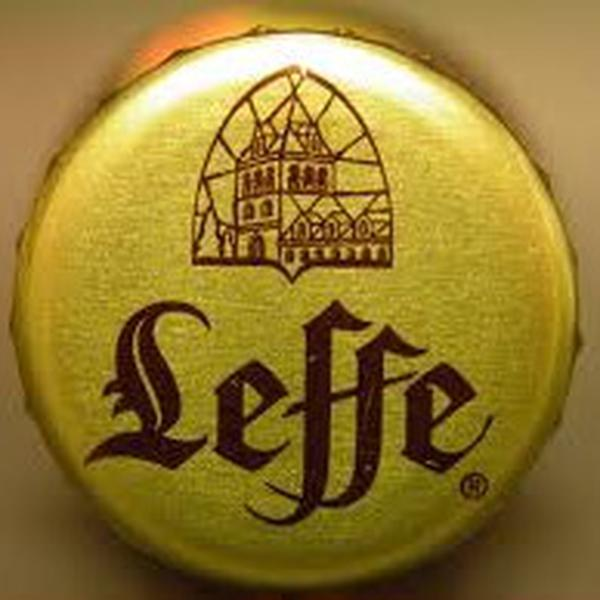leffe: (1, 7, 589, 596)
